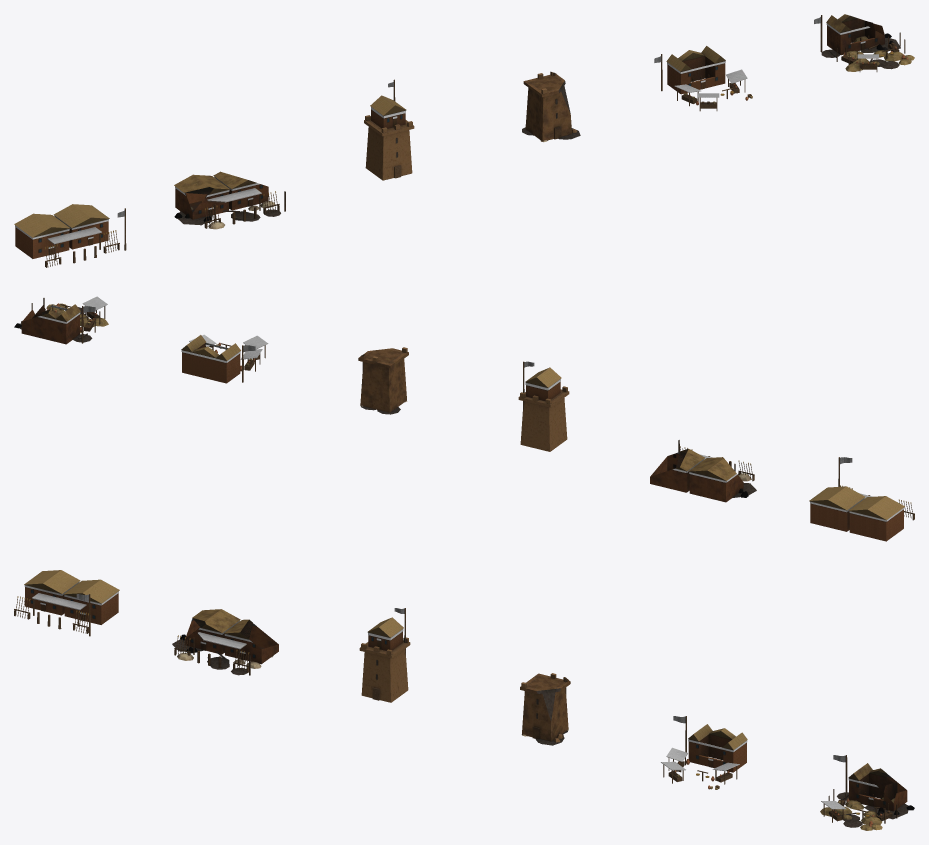
File: rts-classical-westafrica.glb
3 renders of one model, top to bottom at view 1: azimuth 30°, elevation 25°; view 2: azimuth 150°, elevation 25°; view 3: azimuth 330°, elevation 25°, orthographic.
Visible parts, largest first — view 1: LOD0.001, LOD0, LOD0.005, LOD0.002, LOD0.004, LOD0.003; view 2: LOD0, LOD0.001, LOD0.002, LOD0.005, LOD0.003, LOD0.004; view 3: LOD0.001, LOD0, LOD0.005, LOD0.002, LOD0.004, LOD0.003.
Boxes of the visible parts, x1,y1,x2,y2 form: LOD0.001: [174, 171, 285, 229]; LOD0: [14, 204, 126, 267]; LOD0.005: [814, 14, 914, 71]; LOD0.002: [364, 79, 414, 180]; LOD0.004: [654, 46, 752, 111]; LOD0.003: [522, 71, 580, 142]; LOD0: [809, 457, 914, 541]; LOD0.001: [650, 440, 756, 502]; LOD0.002: [518, 361, 569, 451]; LOD0.005: [14, 296, 108, 344]; LOD0.003: [358, 347, 408, 414]; LOD0.004: [181, 334, 268, 383]; LOD0.001: [172, 609, 278, 675]; LOD0: [14, 570, 119, 636]; LOD0.005: [820, 755, 914, 830]; LOD0.002: [359, 608, 410, 702]; LOD0.004: [661, 716, 747, 789]; LOD0.003: [520, 673, 570, 745].
Size of what is drawn, in the model's own units: 16.4 by 1.48 by 1.36.
Materials: 2 (2 with a texture image).
